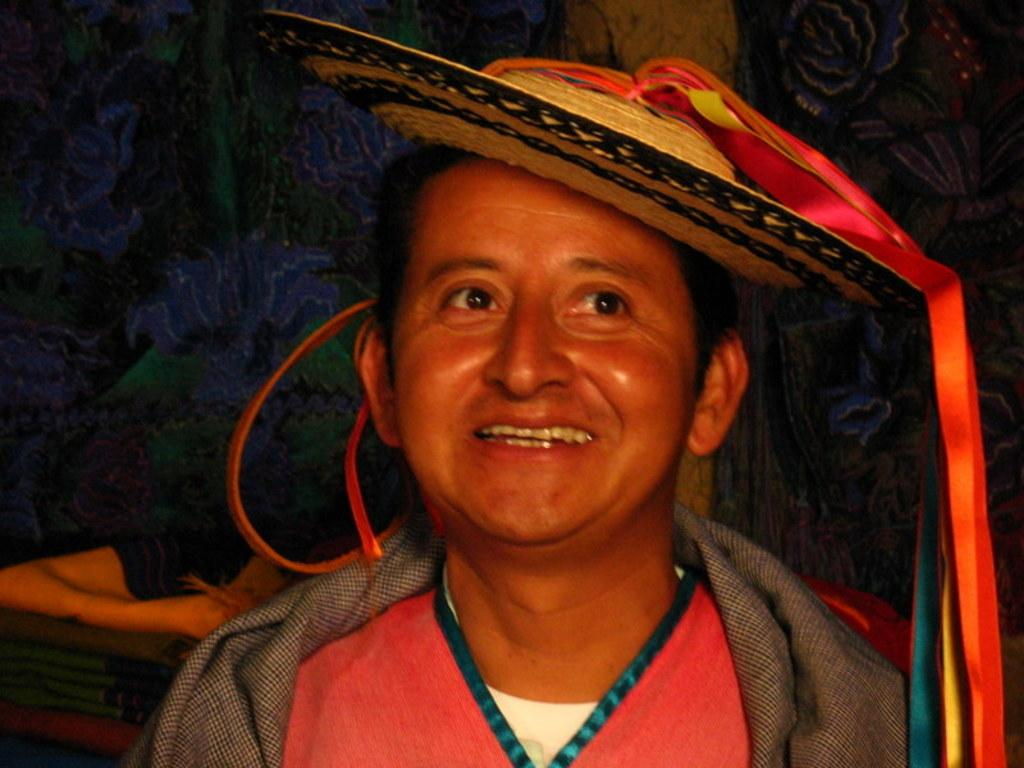Hat: (225, 4, 1006, 766)
